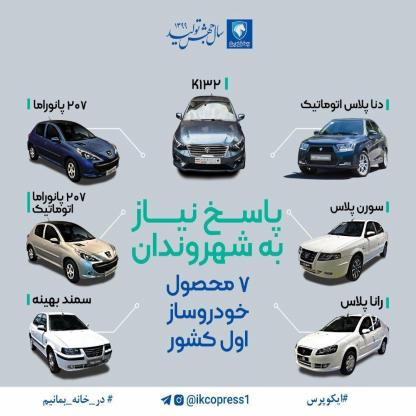Car: (22, 212, 121, 288), (166, 96, 248, 186), (25, 304, 121, 380), (294, 313, 396, 380), (296, 114, 392, 179), (298, 220, 392, 282), (26, 119, 113, 181)
